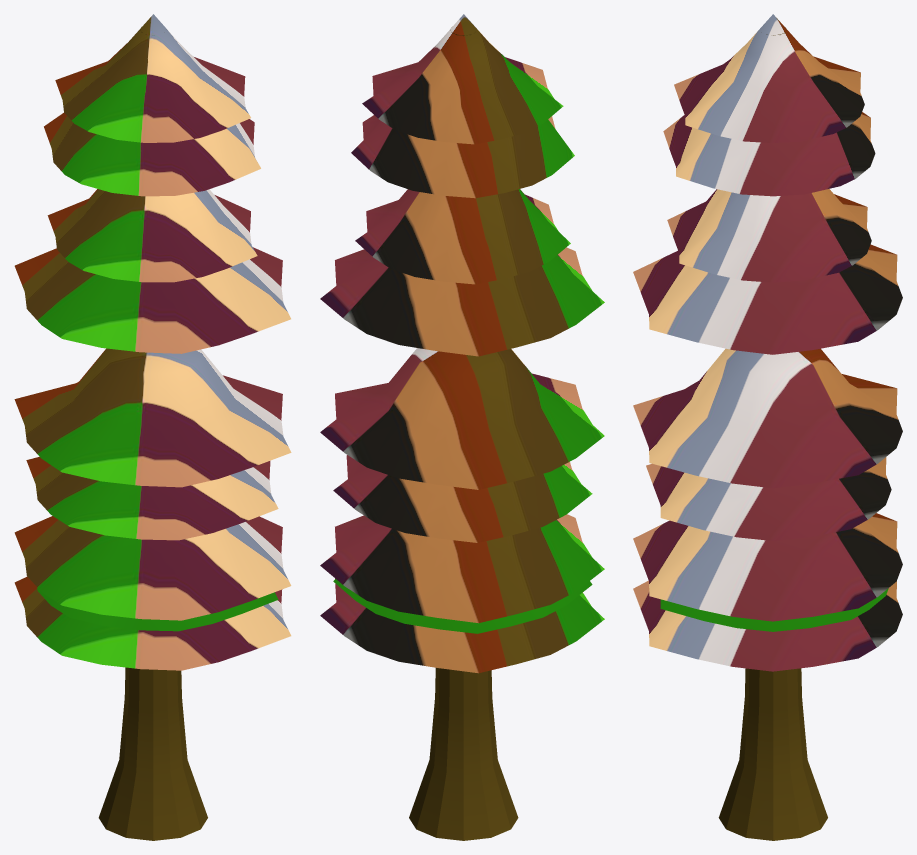
File: SM_Tree5_LOD0.fbx
3 renders of one model, left to right at view 1: azimuth 30°, elevation 25°; view 2: azimuth 150°, elevation 25°; view 3: azimuth 270°, elevation 25°, orthographic.
Parts seen in each view (by area): view 1: polySurface156, polySurface153, polySurface151, polySurface150, polySurface149, polySurface152, polySurface154, polySurface155, polySurface157, polySurface158; view 2: polySurface156, polySurface153, polySurface151, polySurface150, polySurface149, polySurface152, polySurface154, polySurface155, polySurface157, polySurface158; view 3: polySurface156, polySurface153, polySurface151, polySurface150, polySurface149, polySurface152, polySurface154, polySurface155, polySurface157, polySurface158.
Part boxes in pixels (bbox=[...]): polySurface156: bbox=[14, 348, 291, 487]; polySurface153: bbox=[14, 516, 291, 620]; polySurface151: bbox=[14, 247, 290, 353]; polySurface150: bbox=[47, 189, 257, 282]; polySurface149: bbox=[55, 14, 250, 142]; polySurface152: bbox=[98, 27, 207, 840]; polySurface154: bbox=[26, 457, 278, 540]; polySurface155: bbox=[44, 113, 260, 196]; polySurface157: bbox=[14, 576, 291, 670]; polySurface158: bbox=[37, 588, 278, 631]; polySurface156: bbox=[320, 348, 604, 489]; polySurface153: bbox=[320, 514, 604, 623]; polySurface151: bbox=[320, 247, 604, 356]; polySurface150: bbox=[355, 189, 570, 284]; polySurface149: bbox=[362, 14, 563, 144]; polySurface152: bbox=[409, 27, 518, 840]; polySurface154: bbox=[333, 455, 592, 542]; polySurface155: bbox=[351, 115, 574, 198]; polySurface157: bbox=[320, 578, 604, 673]; polySurface158: bbox=[333, 579, 592, 633]; polySurface156: bbox=[633, 348, 902, 488]; polySurface153: bbox=[633, 513, 902, 621]; polySurface151: bbox=[633, 244, 902, 354]; polySurface150: bbox=[667, 189, 871, 282]; polySurface149: bbox=[674, 14, 864, 142]; polySurface152: bbox=[718, 27, 827, 840]; polySurface154: bbox=[646, 457, 891, 540]; polySurface155: bbox=[663, 112, 875, 196]; polySurface157: bbox=[633, 580, 902, 671]; polySurface158: bbox=[660, 588, 888, 631].
Bounding box in the file's own units: 6.7 × 20.97 × 6.38.
